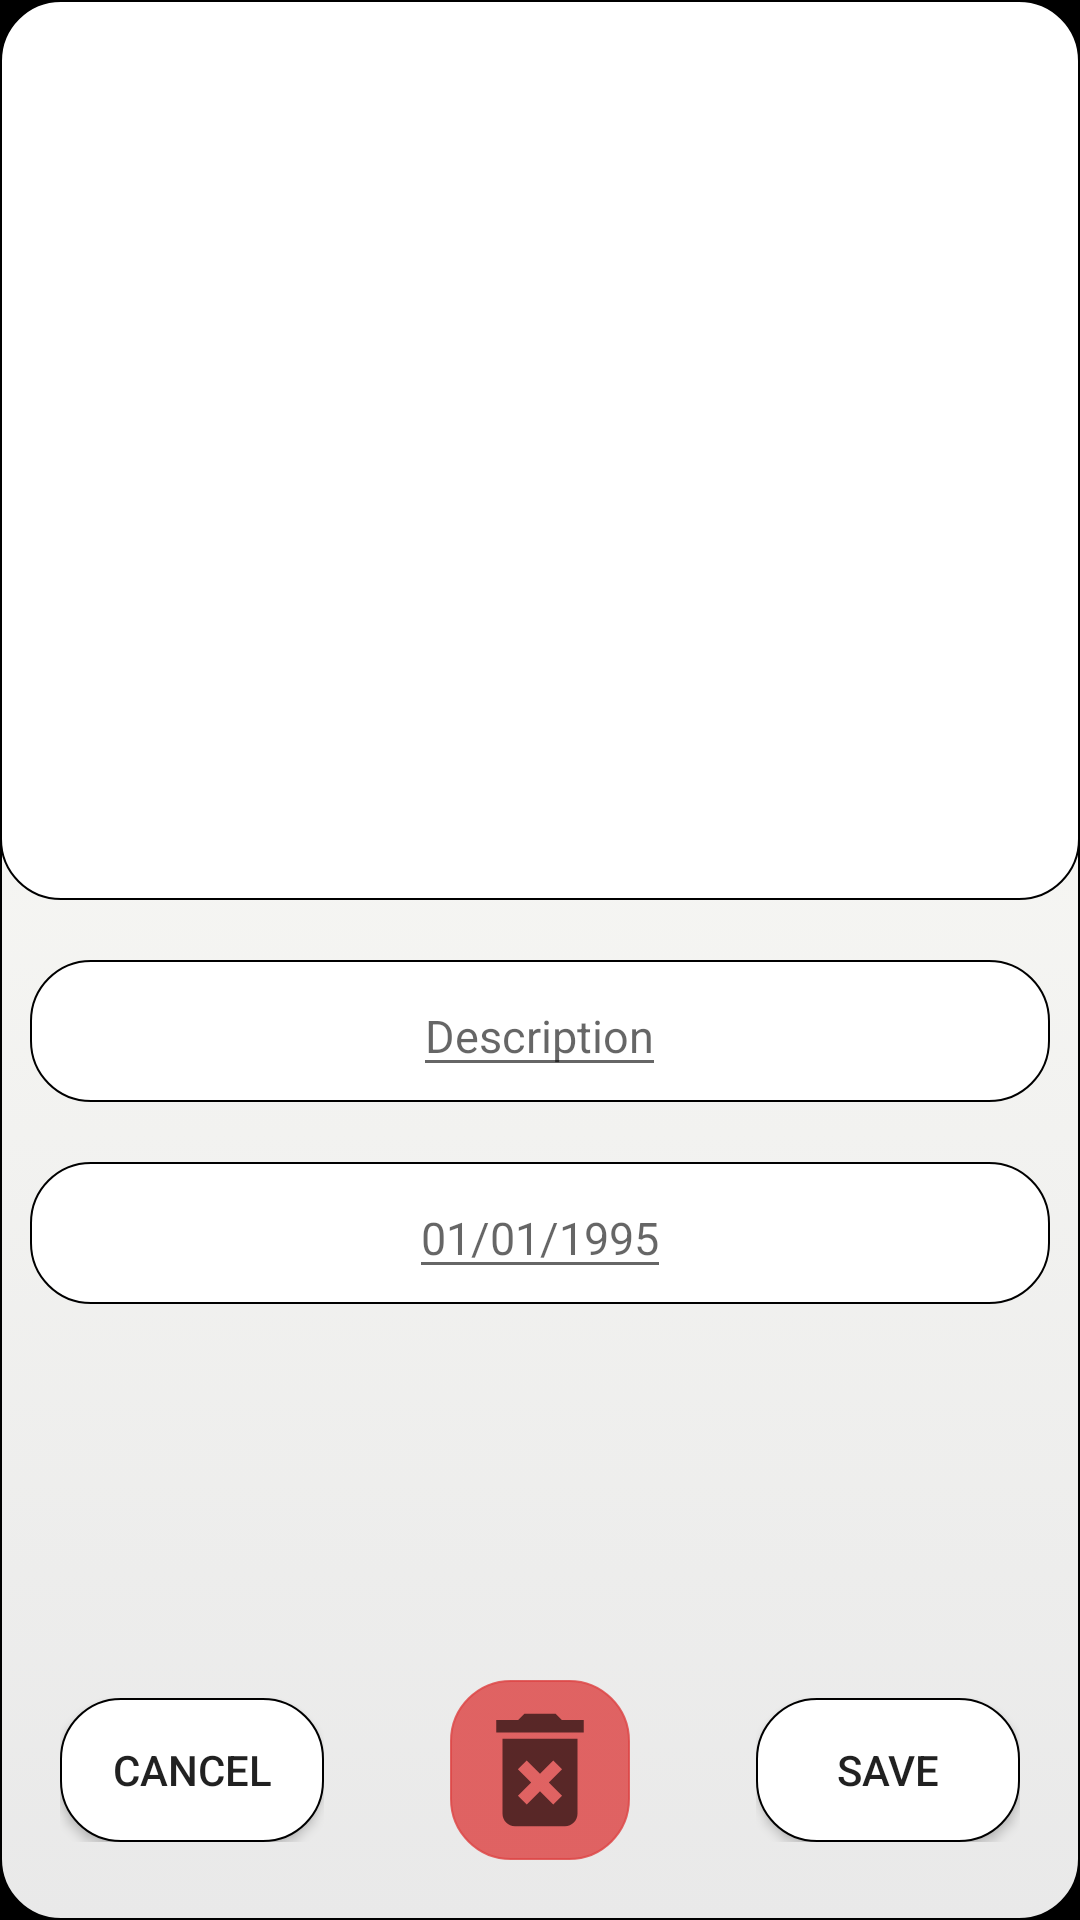

Icons on this 1080x1920 Android screen, each with its box as (x1, y1, x2, y2):
delete: (496, 1713, 584, 1827)
